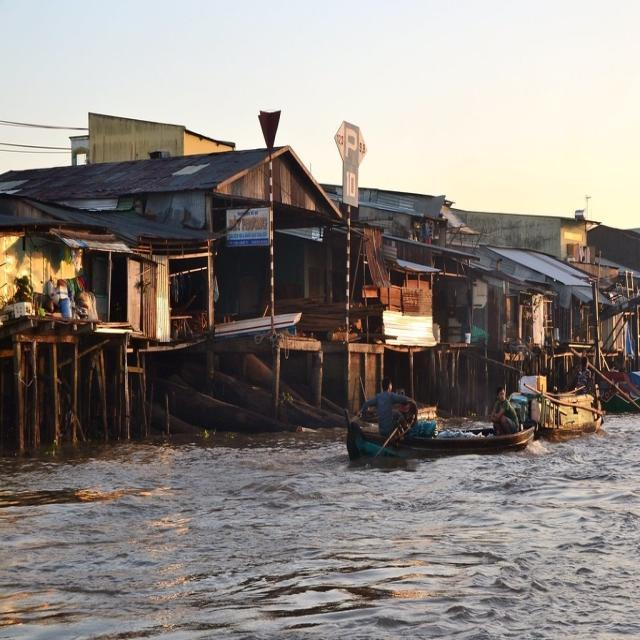boat: (348, 413, 538, 453), (499, 380, 610, 439)
